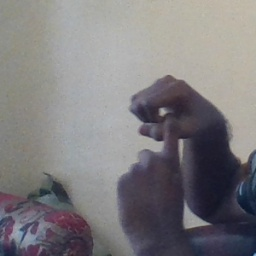Q: (115, 74, 214, 219)
